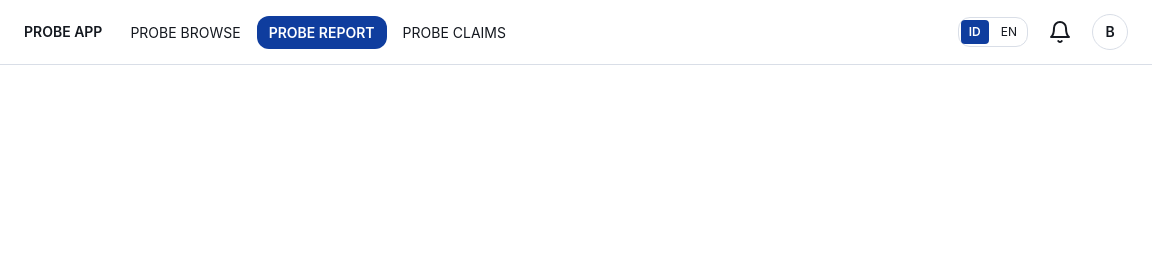
Scenario: TopNav › shows the admin entry for moderators
The width and height of the screenshot is (1152, 270).
Click the button with test id "avatar-menu-trigger" at (1110, 32), box [1092,14,1128,50]
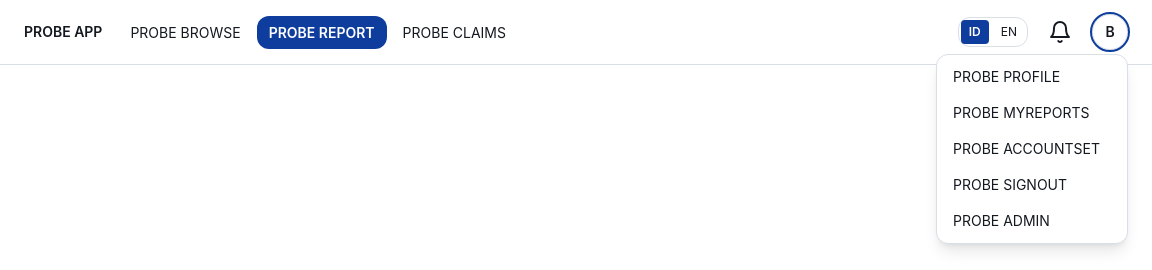
Check: the link with test id "avatar-menu-admin" reads "PROBE ADMIN", box [953,212,1050,229]
